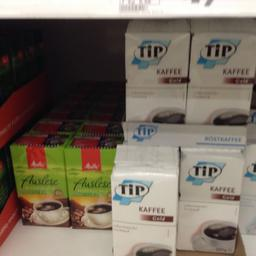coffee: (108, 144, 178, 255), (176, 148, 242, 252), (122, 22, 188, 124), (186, 30, 255, 122), (9, 132, 71, 226), (62, 134, 116, 231)
